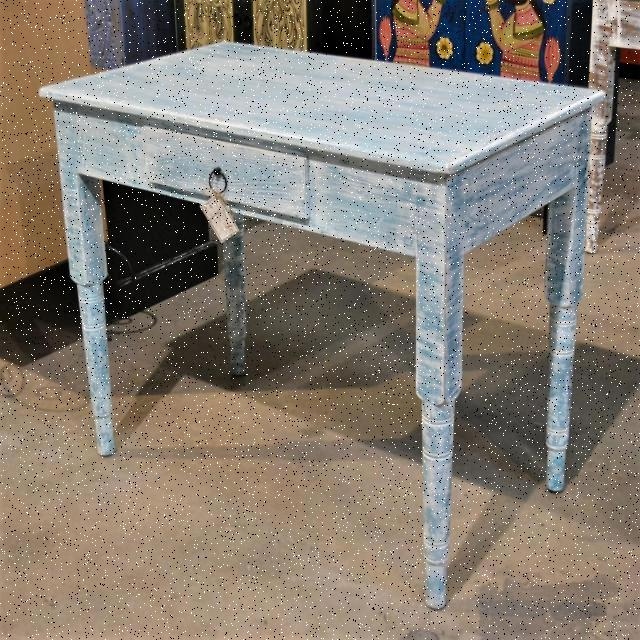mobile-phone: (36, 37, 614, 614)
